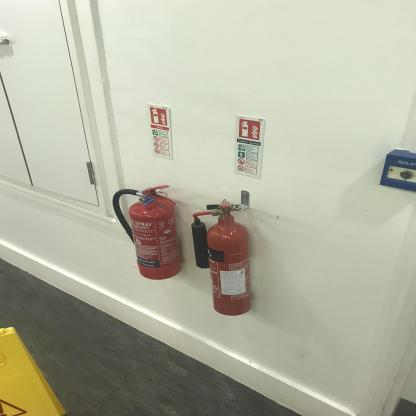Fire Extinguisher: (187, 193, 262, 326), (108, 168, 186, 289)
